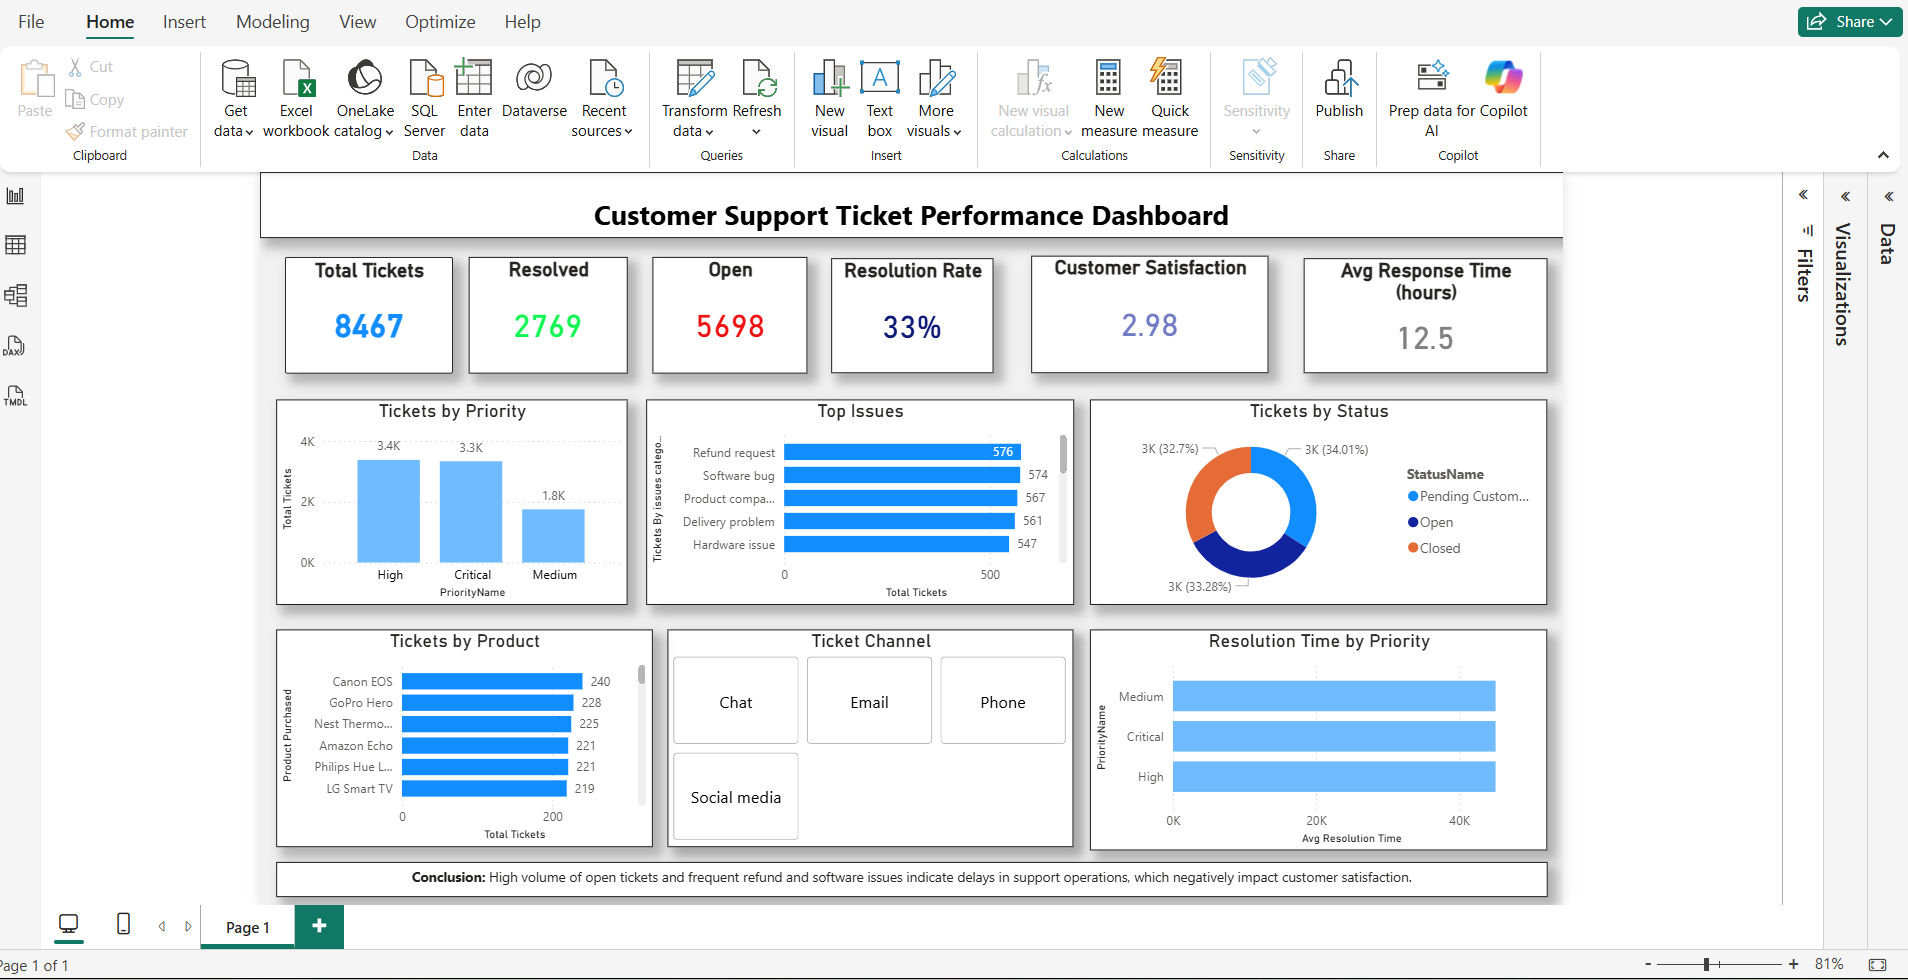

The page's visual inventory and layout, read from the dashboard file:
{"tool":"powerbi","page":{"name":"Page 1","canvas":[1280,720],"ordinal":0},"visuals":[{"type":"textbox","box":[0,0,1279.8,65],"z":0},{"type":"card","title":"Total Tickets","fields":{"Values":["_Measures.Total Tickets"]},"box":[24.5,83.4,164.4,114.1],"z":1000},{"type":"card","title":"Resolved ","fields":{"Values":["_Measures.Resolved Tickets"]},"box":[204.9,83.4,155.8,114.1],"z":2000},{"type":"card","title":"Resolution Rate","fields":{"Values":["_Measures.Resolution Rate %"]},"box":[560.7,84.7,159.5,112.9],"z":3000},{"type":"card","title":"Customer Satisfaction","fields":{"Values":["_Measures.Avg Satisfaction"]},"box":[757.1,82.2,233.1,115.3],"z":4000},{"type":"card","title":"Avg Response Time (hours)","fields":{"Values":["_Measures.Avg Response Time"]},"box":[1024.5,84.7,239.3,112.9],"z":5000},{"type":"card","title":"Open ","fields":{"Values":["_Measures.Unresolved Tickets"]},"box":[385.3,83.4,152.1,114.1],"z":6000},{"type":"clusteredColumnChart","title":"Tickets by Priority","fields":{"Y":["_Measures.Total Tickets"],"Category":["Priority.PriorityName"]},"box":[16,223.3,344.8,201.2],"z":7000},{"type":"donutChart","title":"Tickets by Status","fields":{"Category":["Status.StatusName"],"Y":["_Measures.Total Tickets"]},"box":[814.7,223.3,449.1,201.2],"z":9000},{"type":"advancedSlicerVisual","fields":{"Values":["Channel.Ticket Channel"]},"box":[400,449.1,398.8,213.5],"z":10000},{"type":"barChart","title":"Top Issues","fields":{"Category":["TicketDetails.Ticket Subject"],"Y":["_Measures.Total Tickets"]},"box":[379.1,223.3,419.6,201.2],"z":11000},{"type":"barChart","title":"Tickets by Product","fields":{"Category":["Product.Product Purchased"],"Y":["_Measures.Total Tickets"]},"box":[16,449.1,369.3,213.5],"z":12000},{"type":"barChart","title":"Resolution Time by Priority","fields":{"Category":["Priority.PriorityName"],"Y":["_Measures.Avg Resolution Time"]},"box":[814.7,449.1,449.1,217.2],"z":12001},{"type":"textbox","box":[16,677.3,1247.9,34.4],"z":12002}]}

Visuals, with their boxes on the page's 1280x720 design canvas (x1, y1, x2, y2). These are canvas units, not pixel positions in the 1908x980 screenshot, which may show the page scaled, cropped or inside an application window:
textbox: <region>0, 0, 1280, 65</region>
"Total Tickets" card: <region>24, 83, 189, 198</region>
"Resolved " card: <region>205, 83, 361, 198</region>
"Resolution Rate" card: <region>561, 85, 720, 198</region>
"Customer Satisfaction" card: <region>757, 82, 990, 198</region>
"Avg Response Time (hours)" card: <region>1024, 85, 1264, 198</region>
"Open " card: <region>385, 83, 537, 198</region>
"Tickets by Priority" clusteredColumnChart: <region>16, 223, 361, 424</region>
"Tickets by Status" donutChart: <region>815, 223, 1264, 424</region>
advancedSlicerVisual - Channel.Ticket Channel: <region>400, 449, 799, 663</region>
"Top Issues" barChart: <region>379, 223, 799, 424</region>
"Tickets by Product" barChart: <region>16, 449, 385, 663</region>
"Resolution Time by Priority" barChart: <region>815, 449, 1264, 666</region>
textbox: <region>16, 677, 1264, 712</region>
